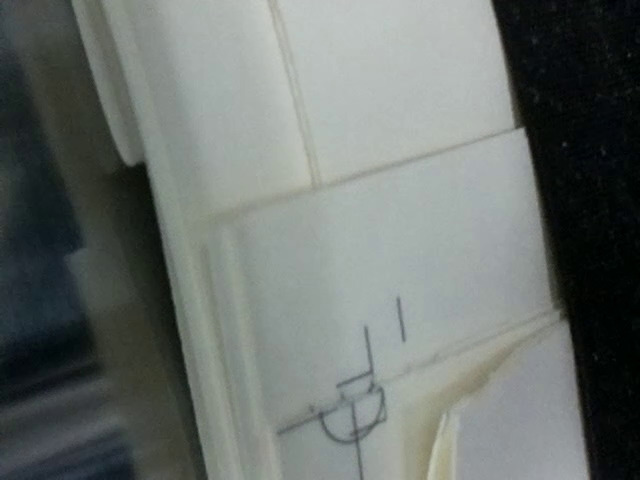misaligned: (288, 352, 416, 480)
